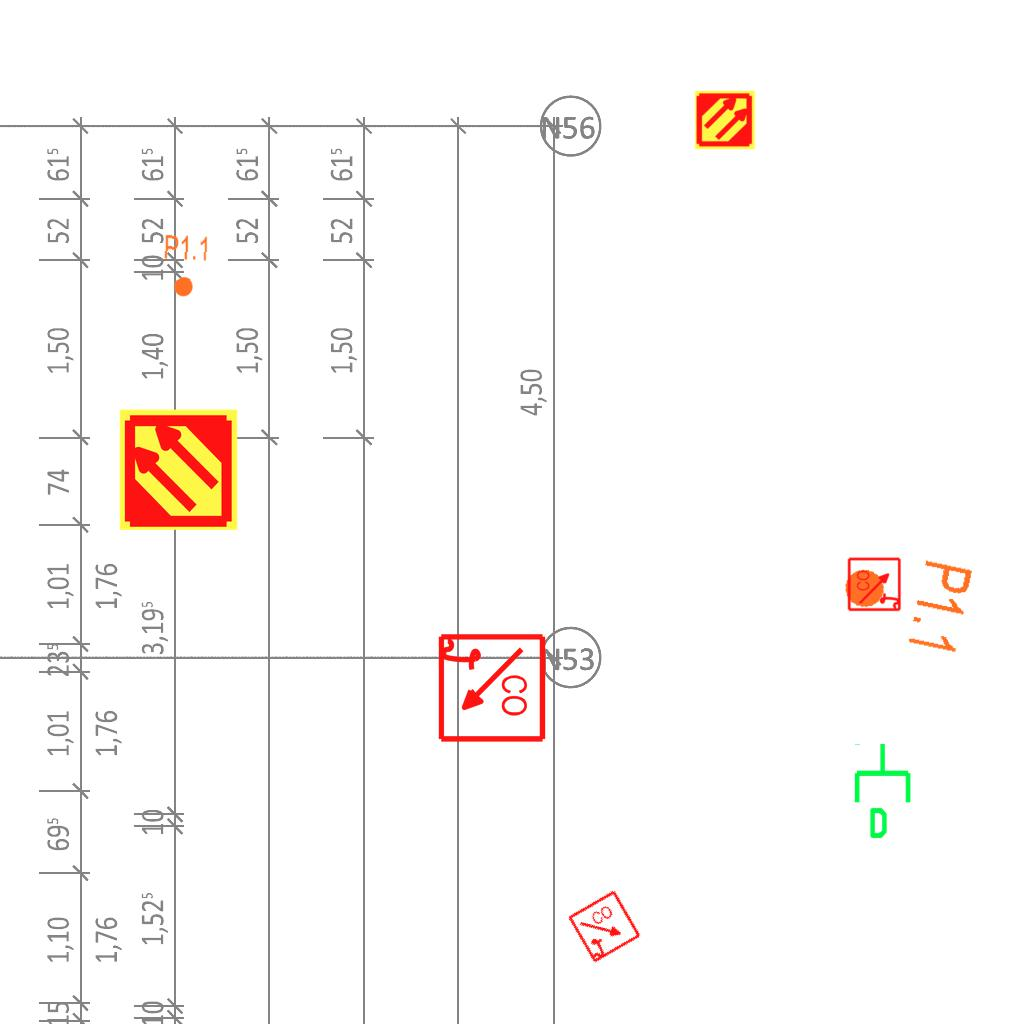ASR_Ansaugrauchmelder: (116, 407, 241, 532), (694, 89, 756, 151)
Datenanschluss_einfach: (850, 741, 919, 841)
Downlight_LED_Einbauleuchten_Flur: (832, 541, 977, 659), (161, 233, 211, 299)
ROA_Rauchmelder_optisch_mit_Signalgeber_(Sockelsirene): (434, 632, 547, 745), (566, 888, 644, 966), (847, 556, 903, 612)
